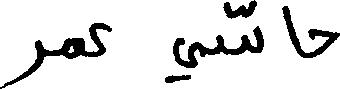X: (218, 0, 260, 59), (0, 35, 42, 88), (167, 33, 196, 87), (311, 24, 339, 62), (285, 1, 300, 60), (91, 18, 108, 61), (64, 33, 82, 63)
